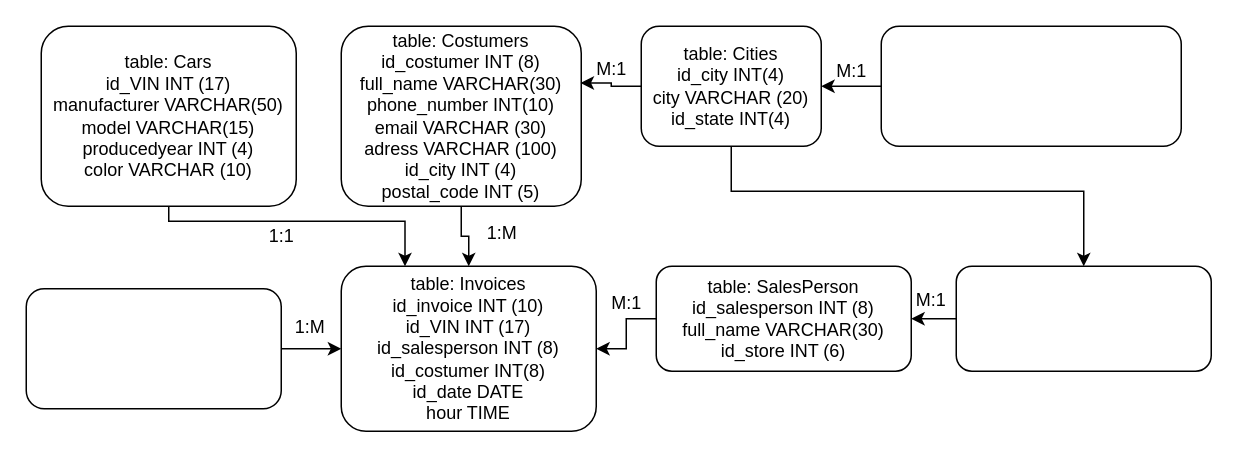
Image size: 1238x458. Some labels were removed from this diagram. The shapes that lost their labels are listed below. From the top down, each one's centre as x and y in pixels, then its label:
At point 1030,85: "table: State id_state INT(4) state_province VARCHAR (20) country VARCHAR (20)".
At point 1083,318: "table: Stores id_store INT (6) store_name VARCHAR (30) id_city INT (4)".
At point 153,348: "table: date id_date DATE day INT (2) month CHAR (3) year int (4)".
